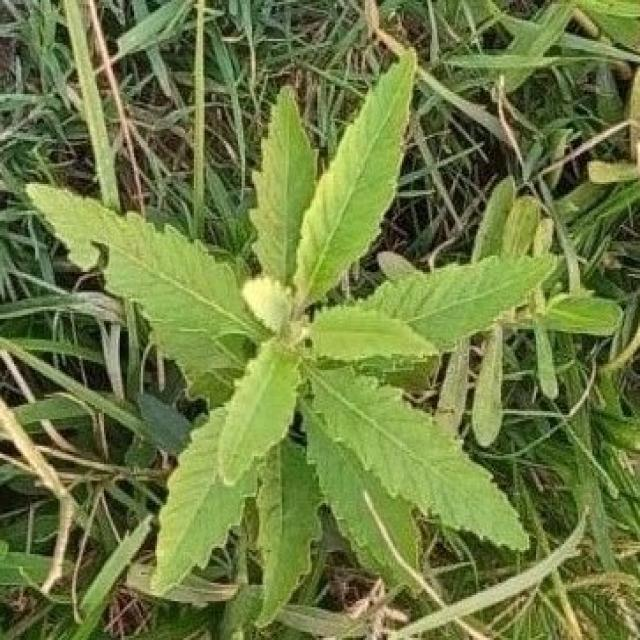weed: (28, 51, 554, 627)
